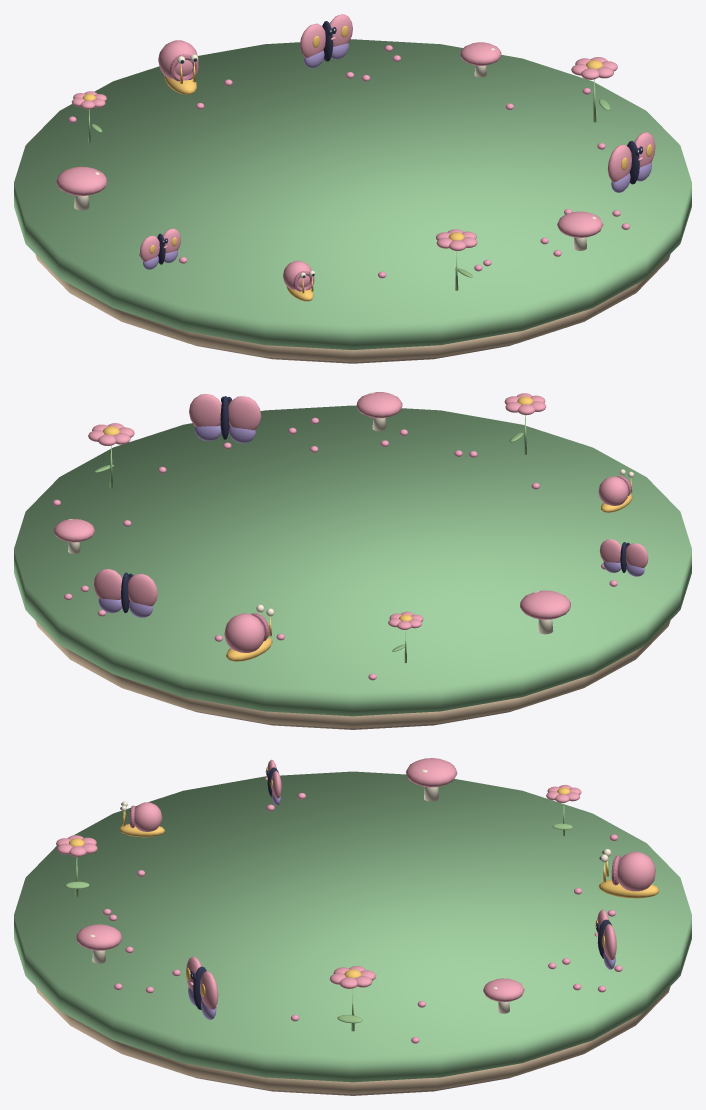
File: world.glb
3 renders of one model, top to bottom at view 1: azimuth 30°, elevation 25°; view 2: azimuth 150°, elevation 25°; view 3: azimuth 270°, elevation 25°, orthographic.
Parts seen in each view (by area): view 1: Cone, Cone.001, butterfly.001, butterfly.003, snail.001, mushroom.002, butterfly.002, mushroom.003, snail.002, flower.001, mushroom.001, flower.003 (+2 smaller); view 2: Cone, Cone.001, butterfly.003, butterfly.001, snail.001, mushroom.002, butterfly.002, mushroom.003, snail.002, flower.001, mushroom.001, flower.003 (+2 smaller); view 3: Cone, Cone.001, snail.001, mushroom.002, butterfly.003, snail.002, mushroom.003, flower.001, flower.003, mushroom.001, butterfly.001, flower.002 (+2 smaller).
Boxes of the visible parts, bbox=[...] form: Cone: bbox=[14, 39, 691, 349]; Cone.001: bbox=[35, 254, 670, 362]; butterfly.001: bbox=[300, 14, 352, 68]; butterfly.003: bbox=[608, 132, 655, 192]; snail.001: bbox=[158, 40, 198, 94]; mushroom.002: bbox=[56, 166, 107, 210]; butterfly.002: bbox=[140, 228, 180, 269]; mushroom.003: bbox=[557, 211, 603, 250]; snail.002: bbox=[283, 260, 315, 301]; flower.001: bbox=[571, 57, 617, 122]; mushroom.001: bbox=[460, 42, 501, 77]; flower.003: bbox=[436, 229, 477, 290]; Cone: bbox=[14, 405, 691, 716]; Cone.001: bbox=[35, 620, 670, 728]; butterfly.003: bbox=[189, 394, 261, 443]; butterfly.001: bbox=[93, 569, 157, 617]; snail.001: bbox=[224, 604, 274, 661]; mushroom.002: bbox=[520, 590, 570, 634]; butterfly.002: bbox=[599, 539, 648, 576]; mushroom.003: bbox=[356, 392, 402, 431]; snail.002: bbox=[598, 469, 633, 512]; flower.001: bbox=[88, 423, 134, 488]; mushroom.001: bbox=[53, 519, 94, 553]; flower.003: bbox=[504, 393, 546, 454]; Cone: bbox=[14, 771, 691, 1082]; Cone.001: bbox=[35, 986, 670, 1094]; snail.001: bbox=[598, 849, 659, 898]; mushroom.002: bbox=[406, 758, 457, 801]; butterfly.003: bbox=[186, 956, 218, 1019]; snail.002: bbox=[119, 801, 164, 837]; mushroom.003: bbox=[76, 924, 122, 963]; flower.001: bbox=[329, 966, 376, 1031]; flower.003: bbox=[56, 835, 97, 896]; mushroom.001: bbox=[483, 978, 524, 1013]; butterfly.001: bbox=[594, 909, 616, 969]; flower.002: bbox=[546, 784, 581, 836].
Size of the model in its own units: 9.6 by 1.74 by 9.6.
